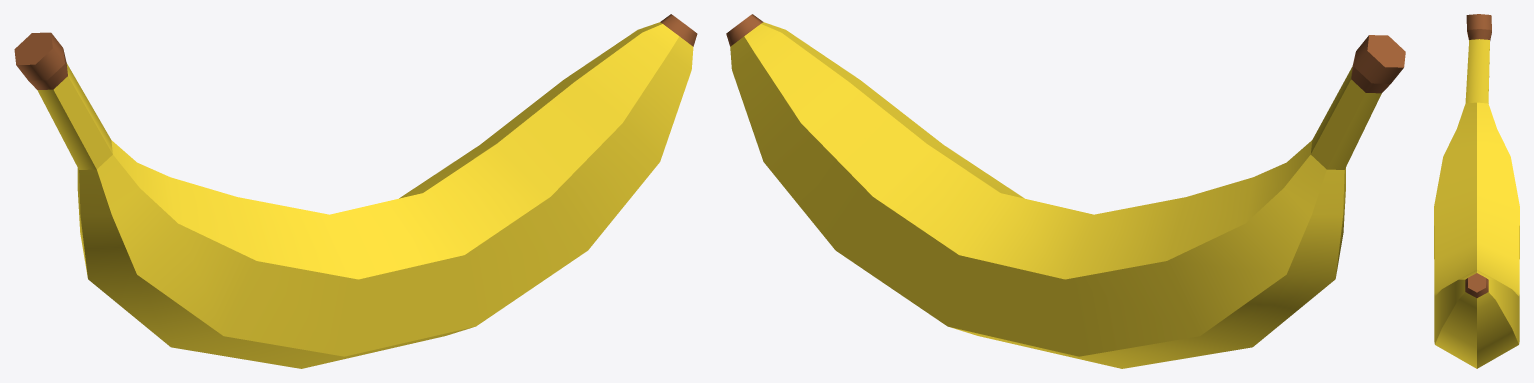
The model's file is banana.fbx.
The picture shows the model from 3 angles, left to right: view 1: azimuth 30°, elevation 25°; view 2: azimuth 150°, elevation 25°; view 3: azimuth 270°, elevation 25°; orthographic projection. The views are drawn at different scales.
Parts seen in each view (by area): view 1: Banana; view 2: Banana; view 3: Banana.
Part boxes in pixels (x1,y1,x2,y2): Banana: (14,14,697,368); Banana: (726,14,1405,368); Banana: (1434,14,1519,368).
Bounding box in the file's own units: 0.2456 × 0.1379 × 0.0453.
